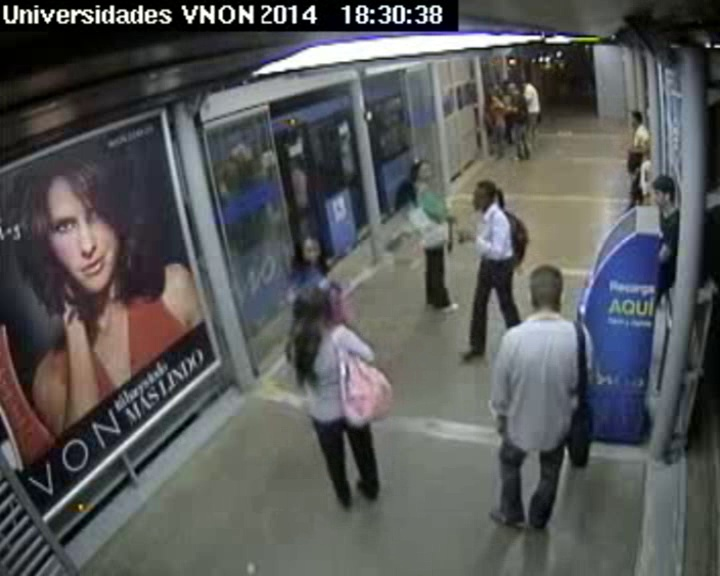person: (526, 264, 570, 314), (291, 284, 332, 326), (650, 172, 684, 213), (295, 231, 328, 266), (471, 178, 501, 213), (410, 157, 435, 184), (630, 110, 648, 127), (505, 80, 520, 96), (486, 85, 499, 98), (519, 77, 531, 89)
